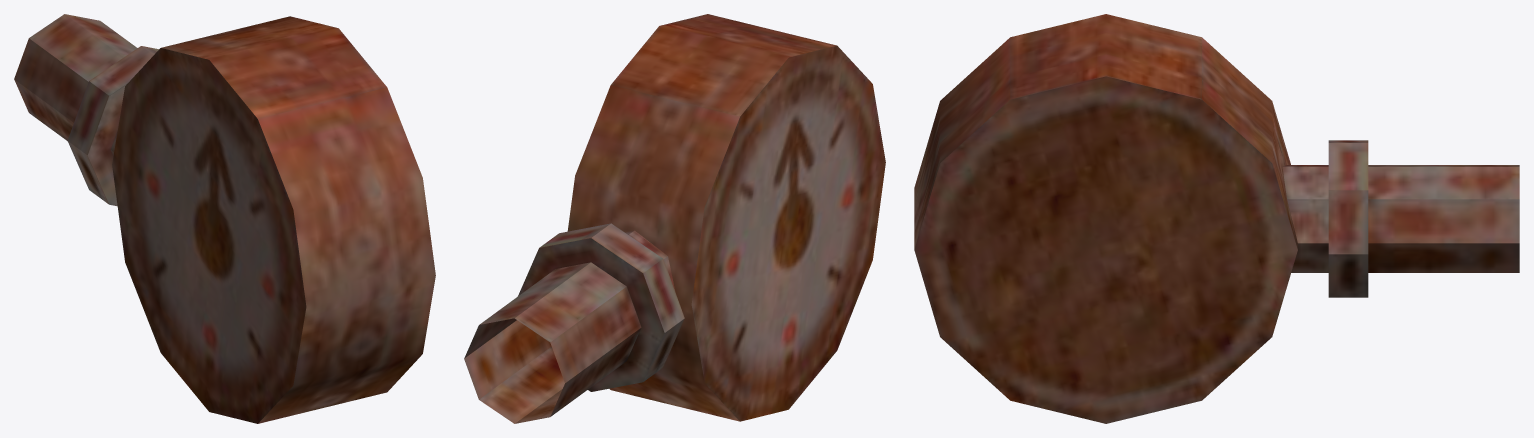
File: stylized_pipe_03.glb
3 views of the same model, side by side, from view 1: azimuth 30°, elevation 25°; view 2: azimuth 150°, elevation 25°; view 3: azimuth 270°, elevation 25° (orthographic).
Parts seen in each view (by area): view 1: stylized_pipe_03; view 2: stylized_pipe_03; view 3: stylized_pipe_03.
Part boxes in pixels (box(x1,y1,x2,y2)): stylized_pipe_03: box(14, 14, 435, 423); stylized_pipe_03: box(464, 14, 885, 423); stylized_pipe_03: box(914, 14, 1519, 423).
Size of what is drawn, in the model's own units: 0.028 by 0.064 by 0.101.
1 material, 1 textured.
